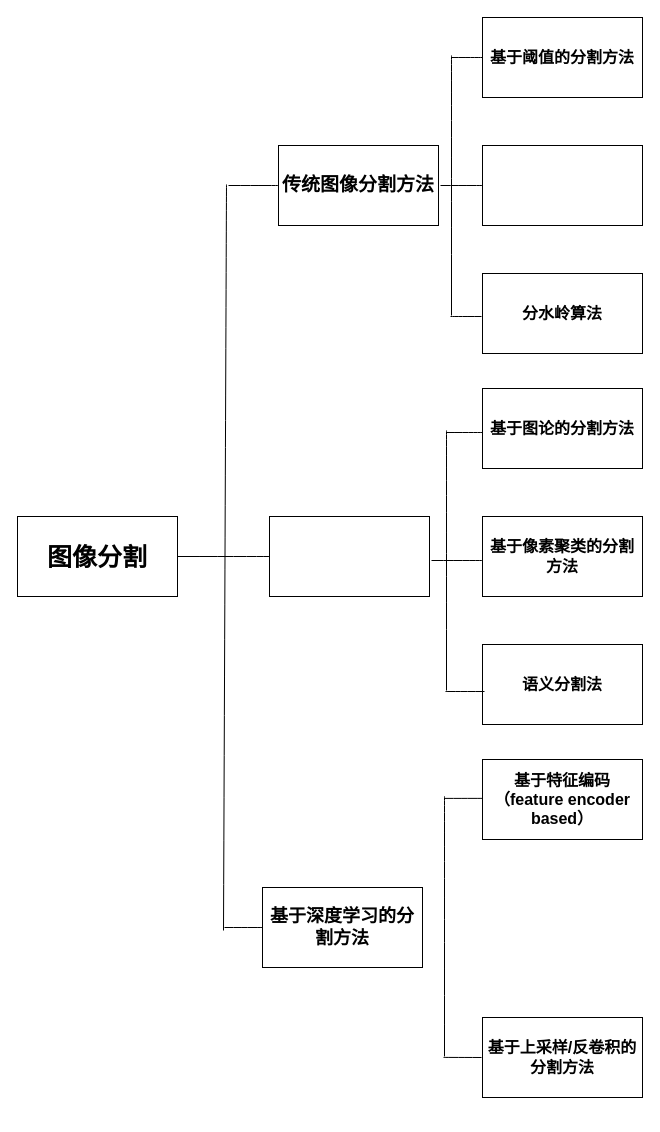
Image size: 660x1132. Some labels were removed from this diagram. The shapes that lost their labels are listed below. From the top down, each one's box as (x1, y1, x2, y2) in pixels, then its label:
(482, 144, 642, 226): 区域分裂合并
(268, 516, 430, 596): 基于内容的图像分割方法
